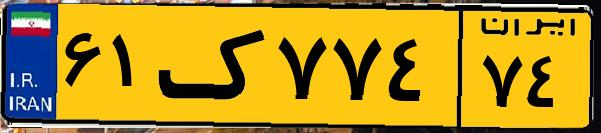1: (110, 28, 158, 98)
4: (385, 28, 445, 110), (525, 38, 570, 115)
6: (57, 26, 110, 100)
7: (270, 28, 330, 110), (330, 28, 385, 110), (475, 38, 525, 113)
ک: (158, 12, 270, 120)
